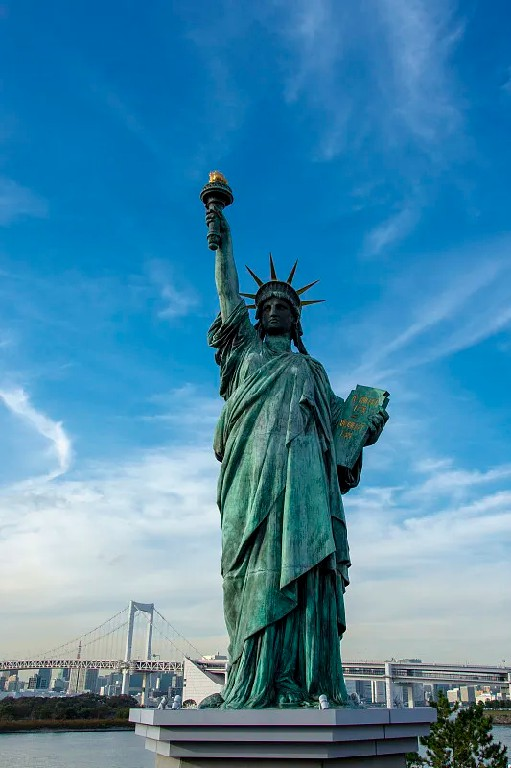SL: (128, 170, 437, 768)
